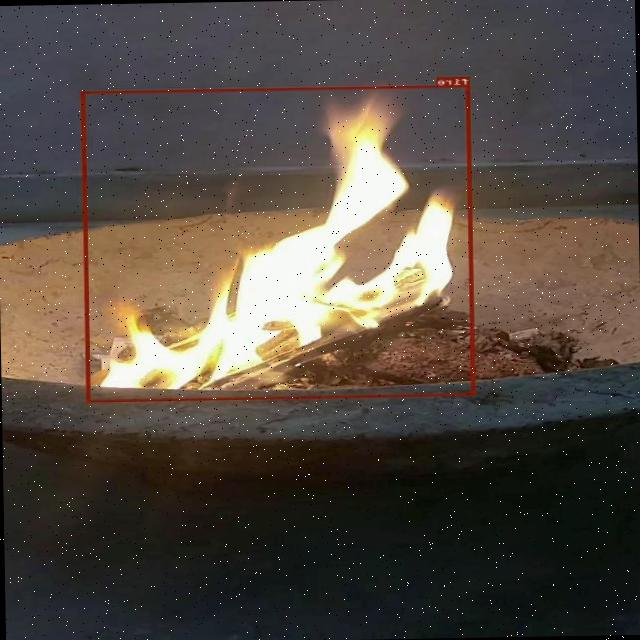fire: (82, 84, 476, 402)
